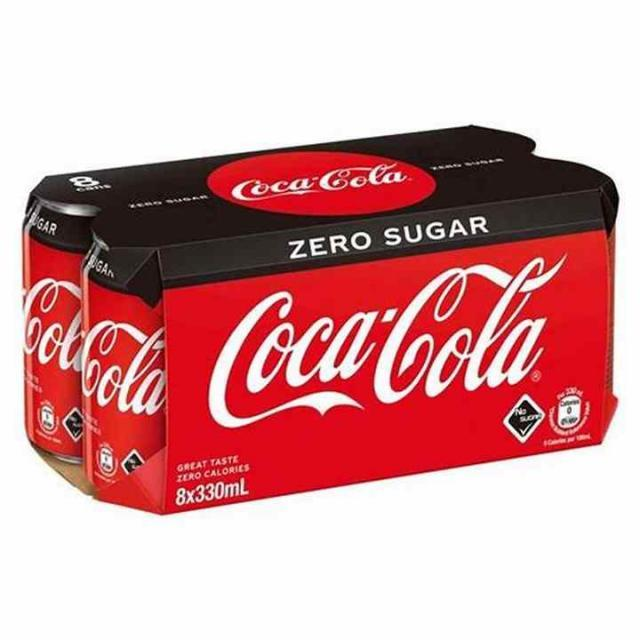coca-cola: (78, 233, 170, 503), (22, 182, 86, 464)
